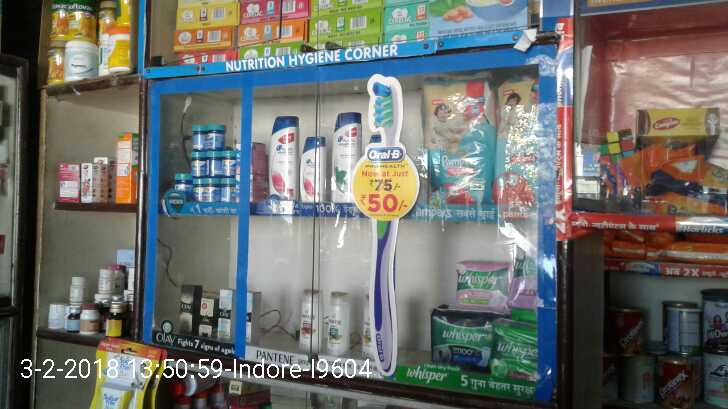beauty: (331, 113, 365, 204), (269, 116, 301, 201), (180, 282, 199, 338)
pharmacy: (419, 79, 504, 210), (432, 306, 499, 367), (456, 263, 511, 314), (188, 151, 238, 176), (192, 180, 237, 204), (192, 122, 226, 153)
